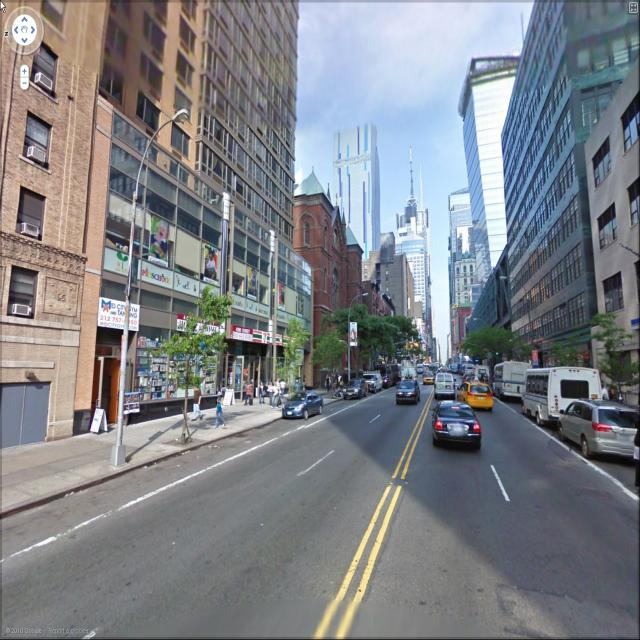b_1: (14, 11, 201, 387), (205, 1, 308, 358), (488, 24, 592, 366), (580, 76, 640, 319), (458, 42, 516, 246), (391, 169, 439, 384), (329, 117, 387, 254)
b_2: (312, 276, 424, 386), (451, 302, 572, 395)
